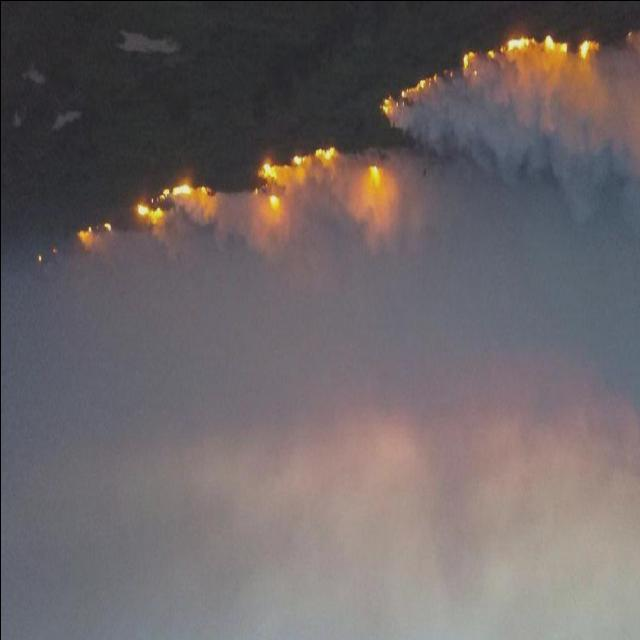Fire: (544, 34, 566, 58), (404, 76, 429, 96), (136, 202, 162, 220), (506, 35, 530, 52), (580, 37, 596, 59), (172, 182, 192, 198), (315, 146, 335, 161), (462, 50, 476, 69), (76, 225, 92, 241), (262, 162, 275, 179), (269, 193, 279, 213), (292, 154, 308, 166), (382, 95, 390, 117), (368, 167, 378, 184), (103, 218, 112, 232)
